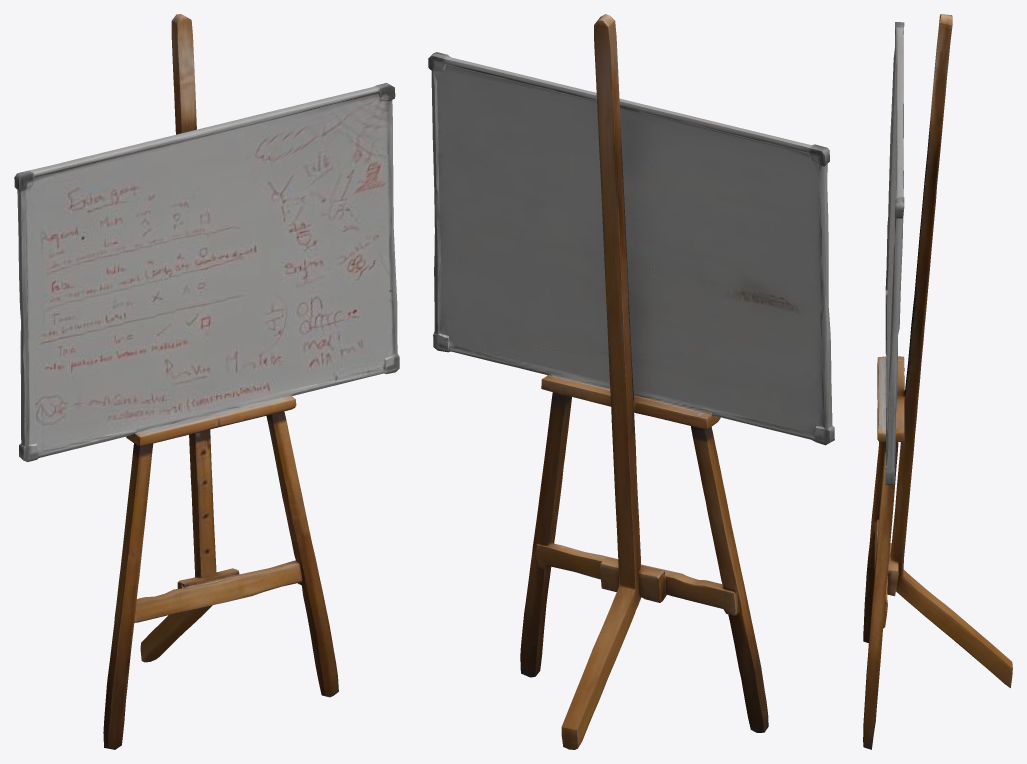
Rendered from whhiteBoard.glb.
3 views of the same model, side by side, from view 1: azimuth 30°, elevation 25°; view 2: azimuth 150°, elevation 25°; view 3: azimuth 270°, elevation 25° (orthographic). The views are drawn at different scales.
Visible parts, largest first — view 1: model; view 2: model; view 3: model.
Boxes of the visible parts, box(x1,y1,x2,y2) form: model: box(14, 14, 399, 749); model: box(428, 14, 834, 749); model: box(863, 14, 1012, 749).
Size of the model in its own units: 1.07 by 1.84 by 0.3678.
Materials: 1 (1 with a texture image).
